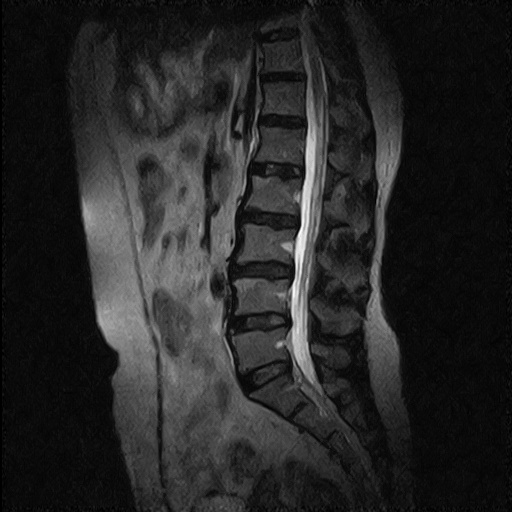L1,v2: (253, 128, 310, 159)
L1-L2,v5: (251, 152, 308, 183)
L2,v2: (247, 179, 304, 210)
L2-L3,v5: (243, 203, 300, 234)
L3,v2: (238, 229, 295, 260)
L3-L4,v2: (237, 257, 294, 288)
L4,v2: (233, 281, 290, 312)
L4-L5,v2: (234, 307, 291, 338)
L5,v2: (232, 333, 289, 364)
L5-S1,v1: (239, 355, 296, 386)
T12-L1,v5: (253, 106, 310, 137)
